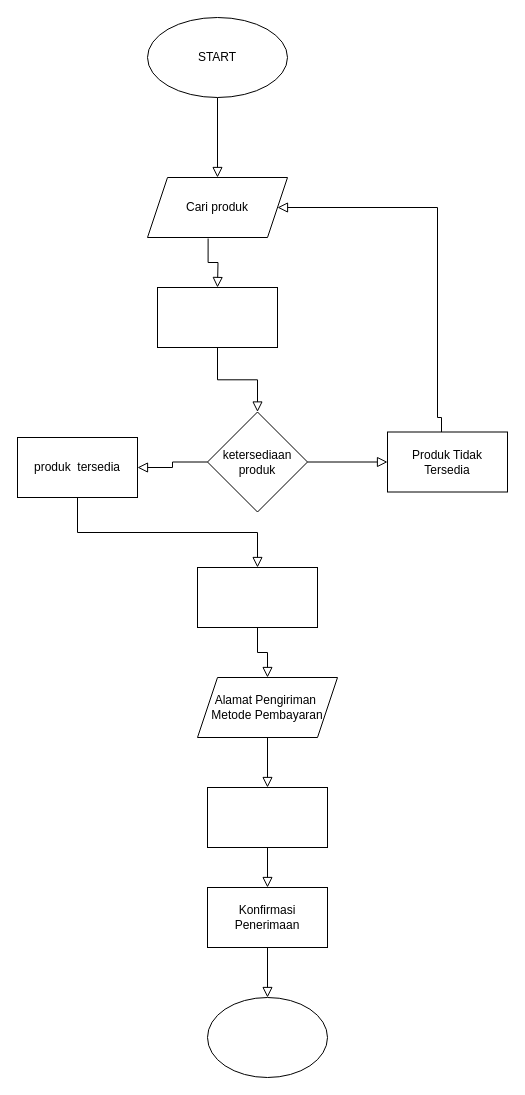
The diagram is 525 pixels wide and 1095 high, and some of its shapes have lost their labels. The centre of each missing label's shape, as x and y in pixels:
END: point (267, 1037)
Pilih Beli: point (257, 597)
Pilih Produk: point (217, 317)
Transfer: point (267, 817)
